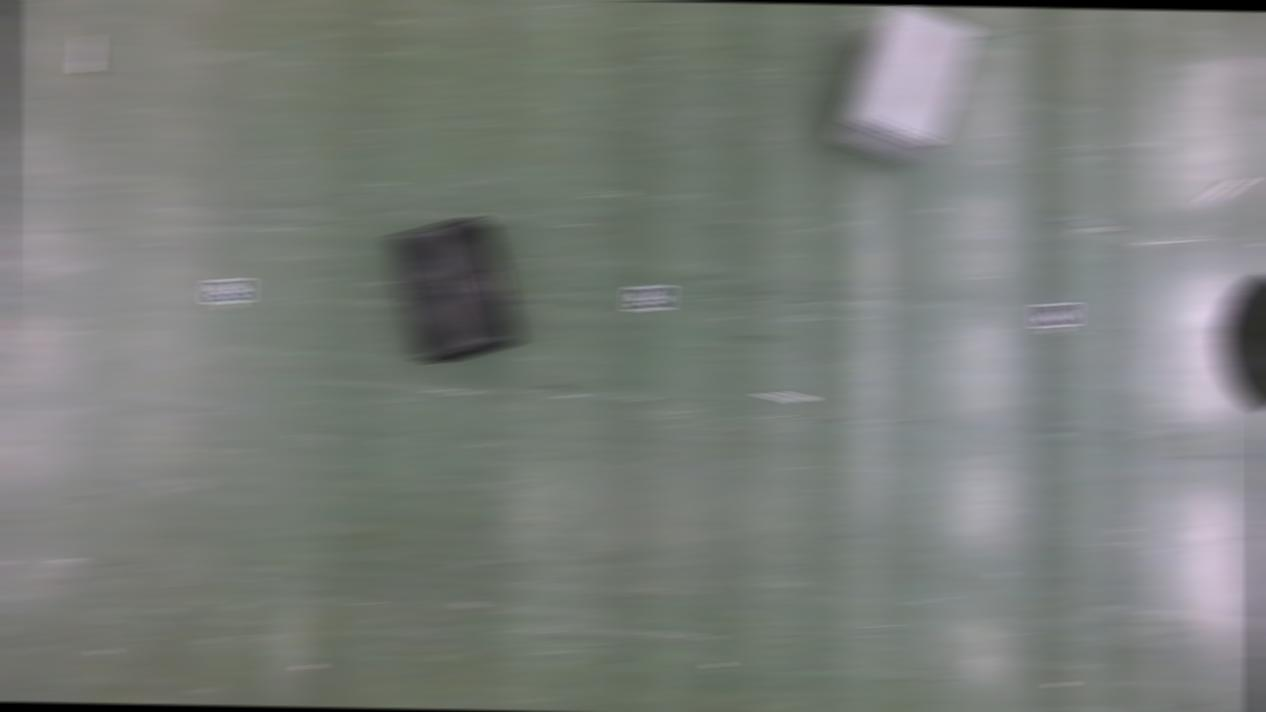probes: (1200, 177, 1250, 206), (76, 36, 96, 73), (761, 390, 809, 404)
rako: (827, 3, 977, 168), (386, 216, 523, 368)
